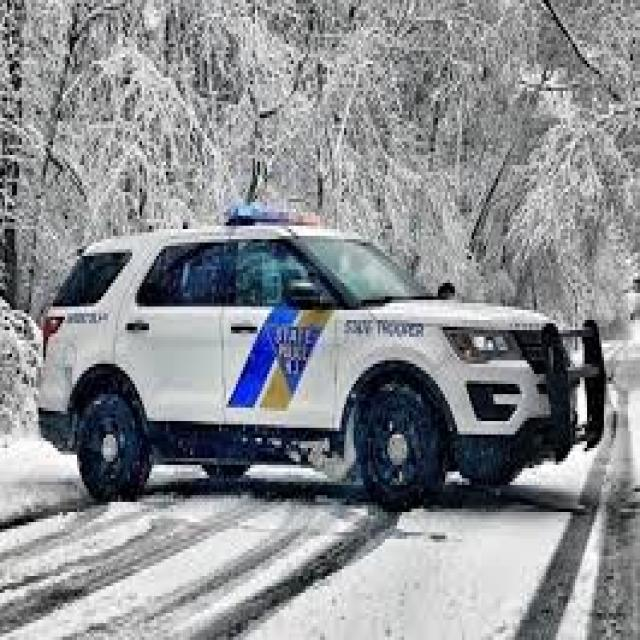cop: (37, 206, 609, 510)
